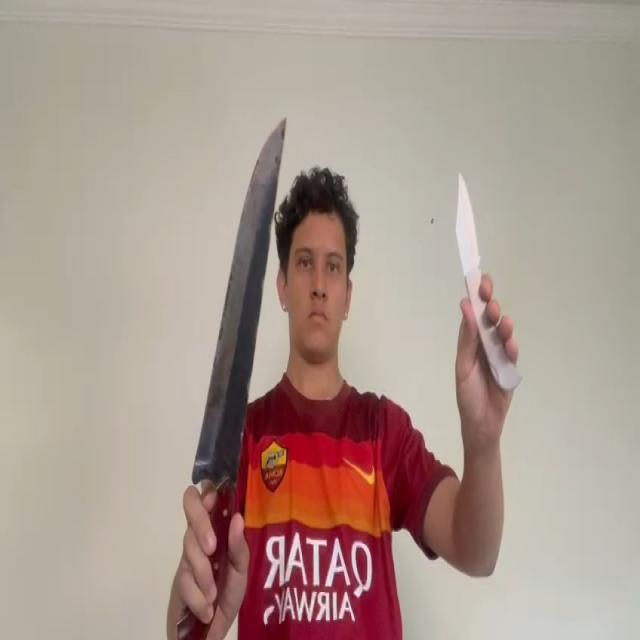knife: (191, 116, 288, 490), (455, 172, 482, 270)
